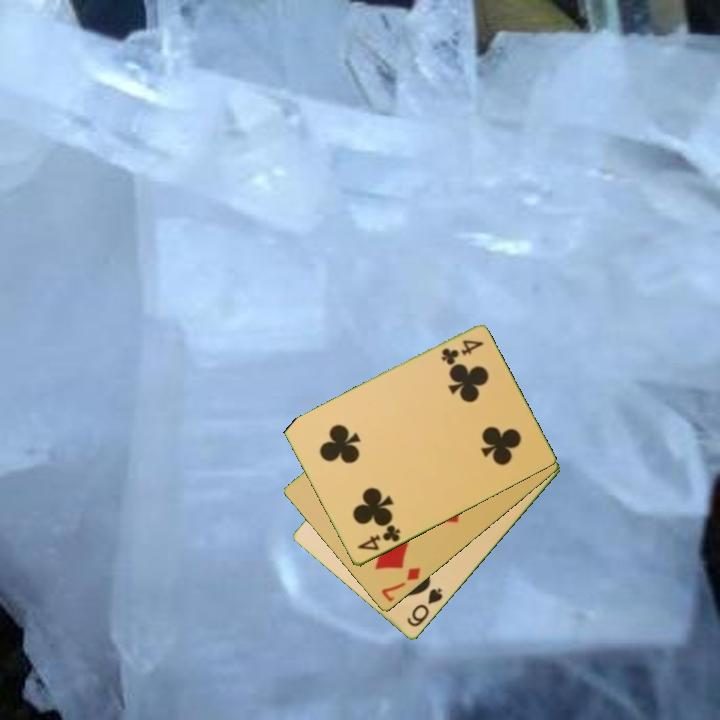4c: (353, 521, 403, 554), (437, 337, 487, 367)
6s: (403, 585, 446, 630)
7d: (378, 564, 424, 605)
